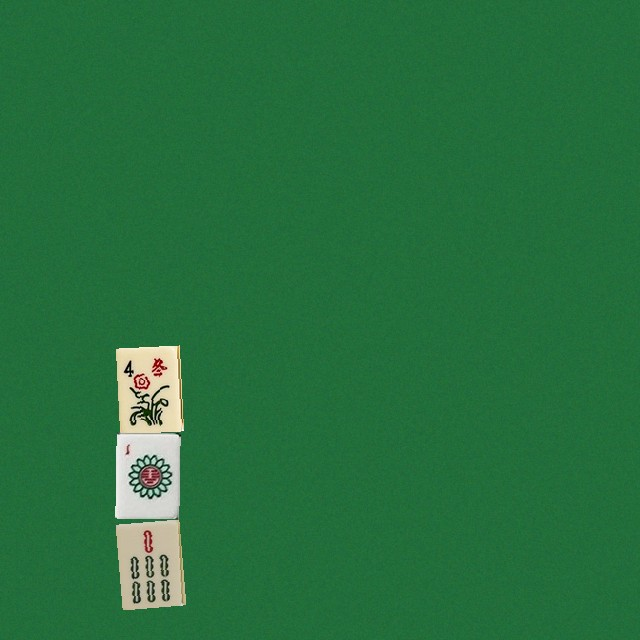tile: (115, 345, 179, 431), (115, 432, 179, 518), (115, 519, 179, 605)
